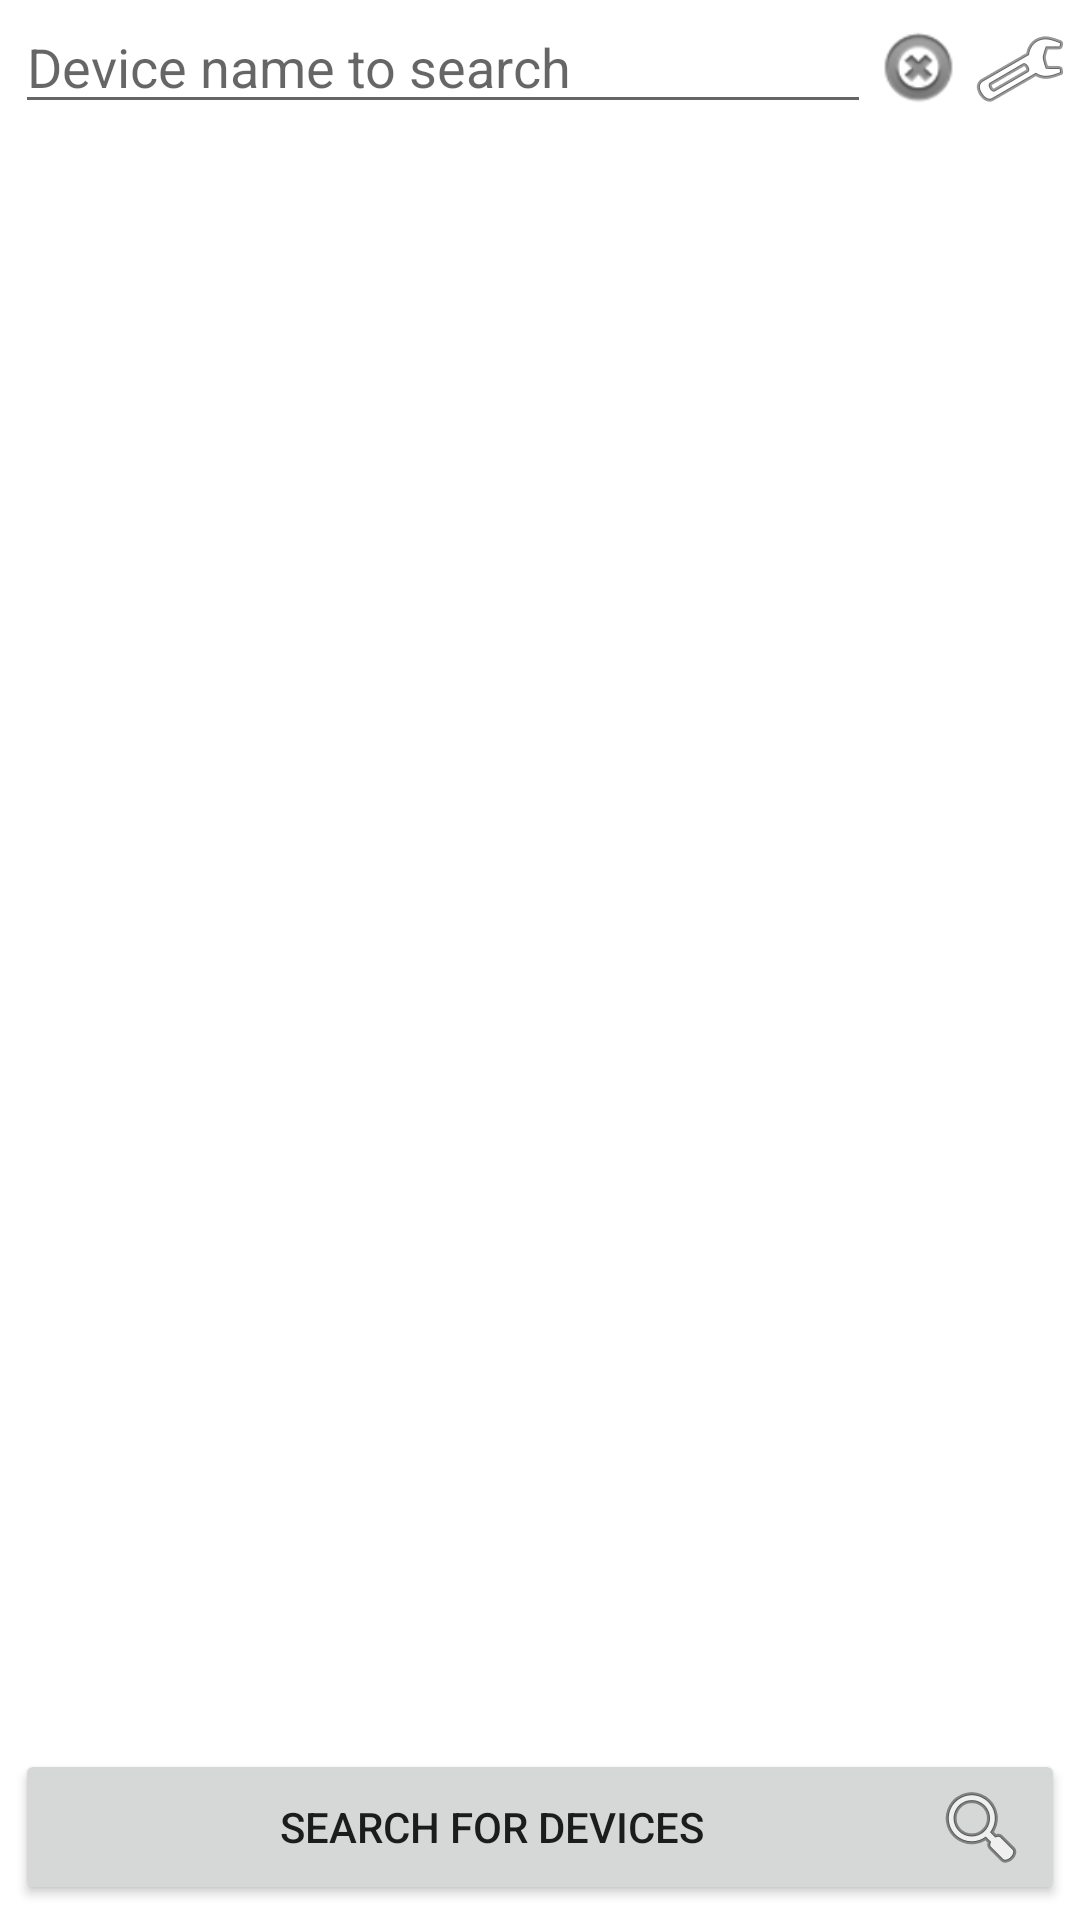

Screen size 1080×1920. Icon name, then its center in pixels as (x=x, y=y):
notification clear all: (x=918, y=67)
preferences: (x=1020, y=69)
